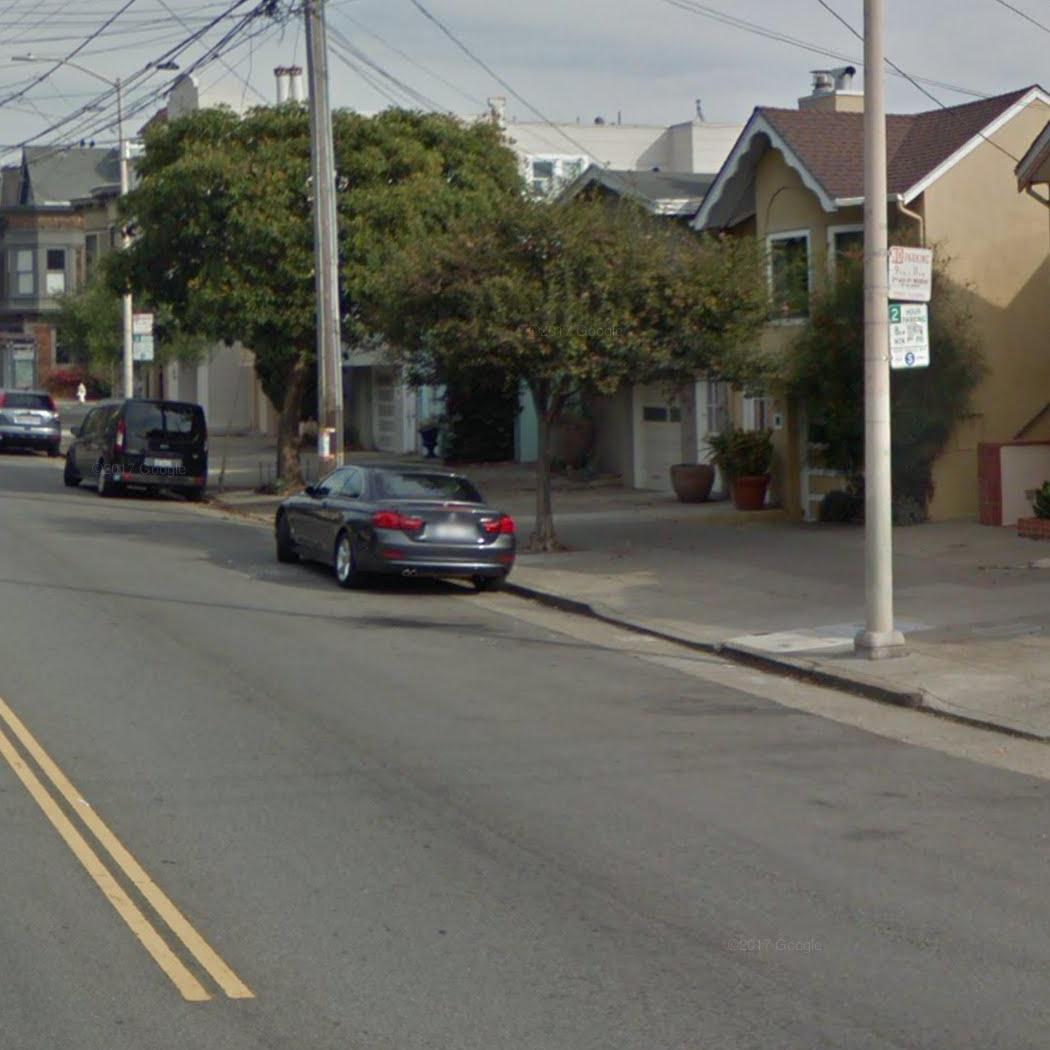2 Hour Parking: (882, 302, 935, 372)
No Parking: (884, 243, 936, 306)
